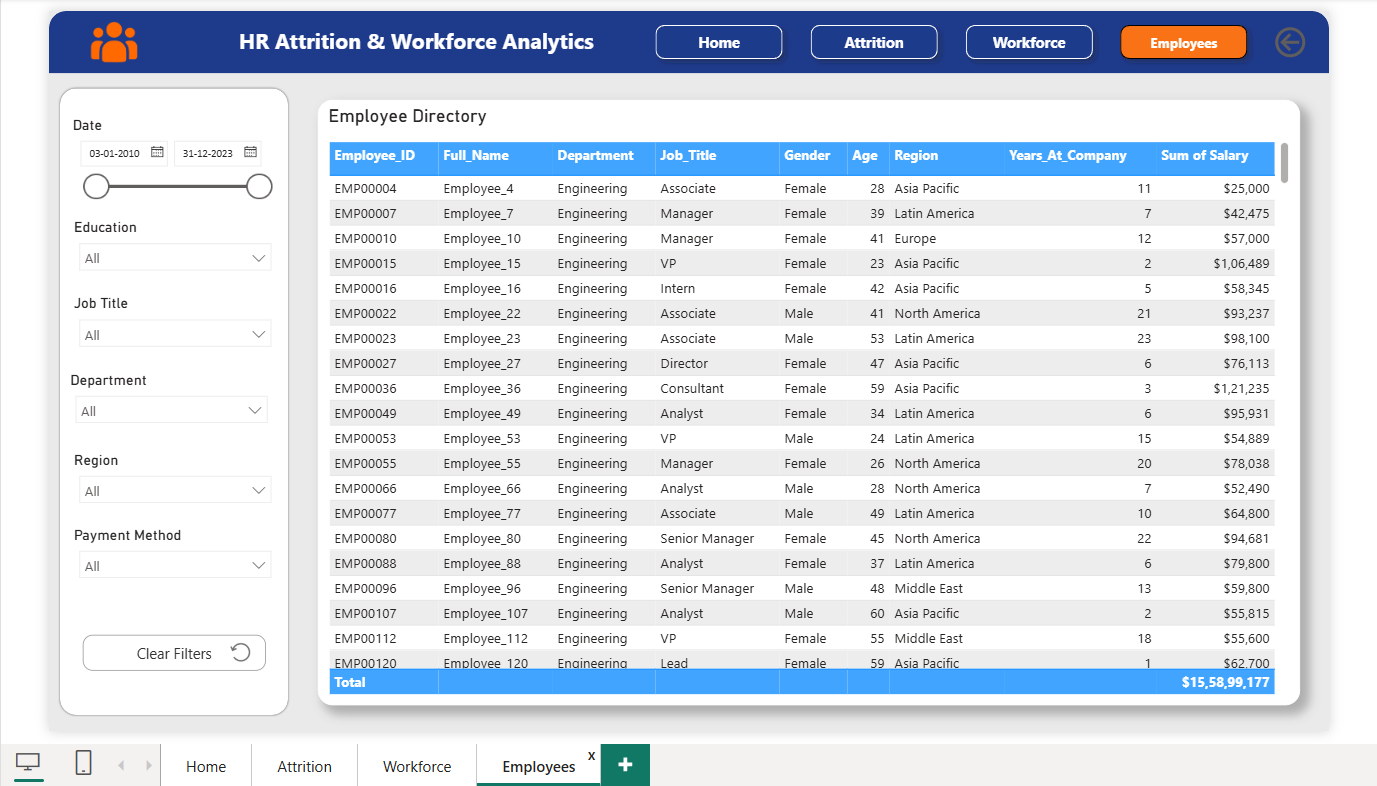

This screenshot's page, from the dashboard's own definition file:
{"tool":"powerbi","page":{"name":"Employees","canvas":[1280,720],"ordinal":3},"visuals":[{"type":"shape","box":[0,0,1280,62.5],"z":0},{"type":"image","box":[8.8,7.5,112.5,47.5],"z":1000},{"type":"textbox","box":[165,7.5,423.8,97.5],"z":2000},{"type":"pageNavigator","box":[597.5,5,613.8,52.5],"z":3000},{"type":"tableEx","title":"Employee Directory ","fields":{"Values":["Dim_Employee.Employee_ID","Dim_Employee.Full_Name","Dim_Department.Department","Dim_Job_Title.Job_Title","Dim_Employee.Gender","Dim_Employee.Age","Dim_Region.Region","Fact_Employee_Attrition.Years_At_Company","Sum(Fact_Employee_Attrition.Salary)"]},"box":[268.5,89,982.3,605.2],"z":4000},{"type":"actionButton","box":[1221.2,11.2,58.8,40],"z":5000},{"type":"shape","box":[8.8,75,232.5,631.2],"z":6000},{"type":"slicer","title":"Date","fields":{"Values":["Dim_Date.Full_Date"]},"box":[19.3,105,212.5,86.2],"z":7000},{"type":"slicer","title":"Education","fields":{"Values":["Dim_Education.Education"]},"box":[19.5,207.3,212.5,91.2],"z":8000},{"type":"slicer","title":"Job Title","fields":{"Values":["Dim_Job_Title.Job_Title"]},"box":[19.5,283.8,212.5,91.2],"z":9000},{"type":"slicer","title":"Payment Method","fields":{"Values":["Dim_Payment_Method.Payment_Method"]},"box":[19.5,514.8,212.3,91.7],"z":10000},{"type":"slicer","title":"Region","fields":{"Values":["Dim_Region.Region"]},"box":[19.5,439.7,212.3,91.7],"z":11000},{"type":"actionButton","box":[33.4,623.3,183.4,36.2],"z":11000,"group":"g1"},{"type":"slicer","title":"Department","fields":{"Values":["Dim_Department.Department"]},"box":[16.7,360.3,212.5,91.2],"z":12000},{"type":"group","id":"g1","title":"Group 1","box":[33.4,623.3,197.6,36.2],"z":12001},{"type":"image","box":[149.2,630.5,82,20],"z":21000,"group":"g1"}]}

Visuals, with their boxes on the page's 1280x720 design canvas (x1, y1, x2, y2). These are canvas units, not pixel positions in the 1377x786 screenshot, which may show the page scaled, cropped or inside an application window:
shape: (left=0, top=0, right=1280, bottom=62)
image: (left=9, top=8, right=121, bottom=55)
textbox: (left=165, top=8, right=589, bottom=105)
pageNavigator: (left=598, top=5, right=1211, bottom=58)
"Employee Directory " tableEx: (left=268, top=89, right=1251, bottom=694)
actionButton: (left=1221, top=11, right=1280, bottom=51)
shape: (left=9, top=75, right=241, bottom=706)
"Date" slicer: (left=19, top=105, right=232, bottom=191)
"Education" slicer: (left=20, top=207, right=232, bottom=298)
"Job Title" slicer: (left=20, top=284, right=232, bottom=375)
"Payment Method" slicer: (left=20, top=515, right=232, bottom=606)
"Region" slicer: (left=20, top=440, right=232, bottom=531)
actionButton: (left=33, top=623, right=217, bottom=660)
"Department" slicer: (left=17, top=360, right=229, bottom=452)
"Group 1" group: (left=33, top=623, right=231, bottom=660)
image: (left=149, top=630, right=231, bottom=650)
